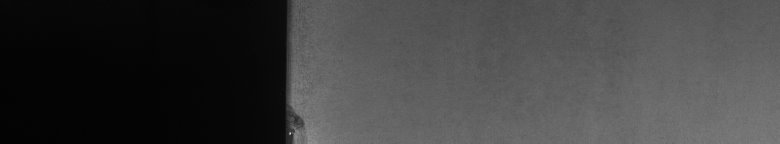hb: (296, 101, 313, 136)
